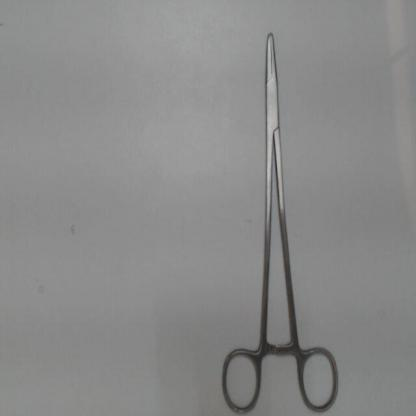8 Mayo Needle Holder: (216, 19, 344, 416)
